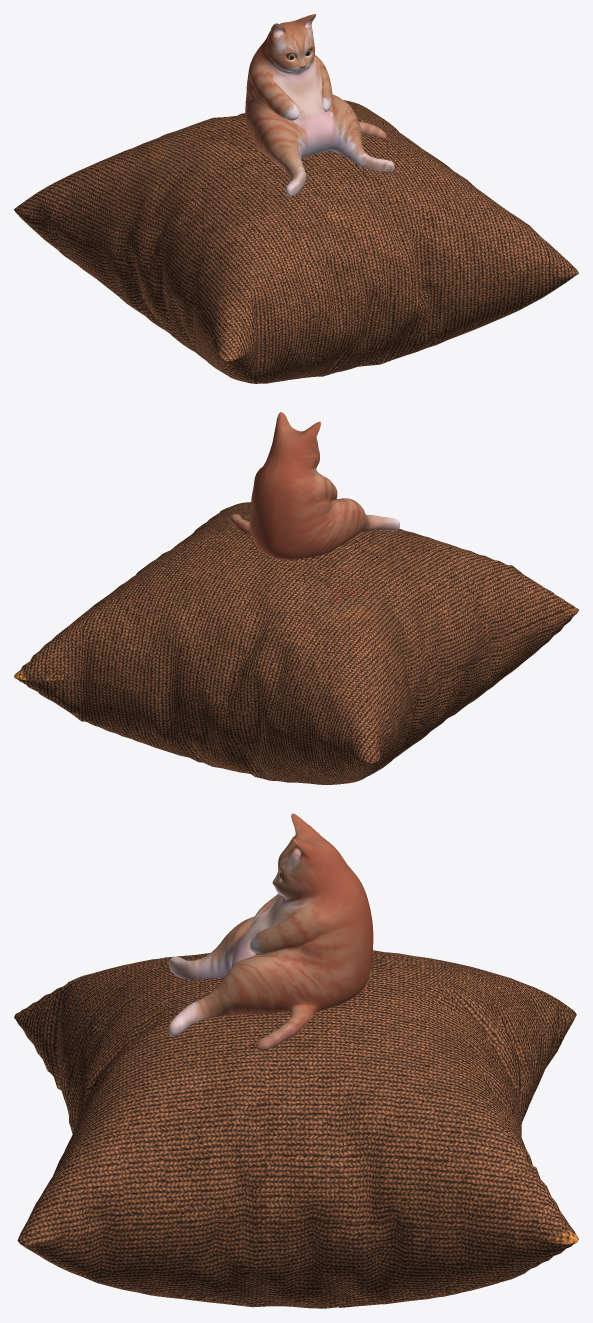
Rendered from cat.gltf.
The picture shows the model from 3 angles, top to bottom: view 1: azimuth 30°, elevation 25°; view 2: azimuth 150°, elevation 25°; view 3: azimuth 270°, elevation 25°; orthographic projection. The views are drawn at different scales.
Parts seen in each view (by area): view 1: Pillow, body; view 2: Pillow, body; view 3: Pillow, body.
Boxes of the visible parts, x1,y1,x2,y2 form: Pillow: (14, 100, 578, 383); body: (245, 14, 394, 196); Pillow: (14, 502, 578, 784); body: (230, 412, 399, 559); Pillow: (14, 950, 578, 1308); body: (168, 813, 373, 1050).
Bounding box in the file's own units: 6.43 × 5.59 × 6.52.
Materials: 3 (3 with a texture image).
